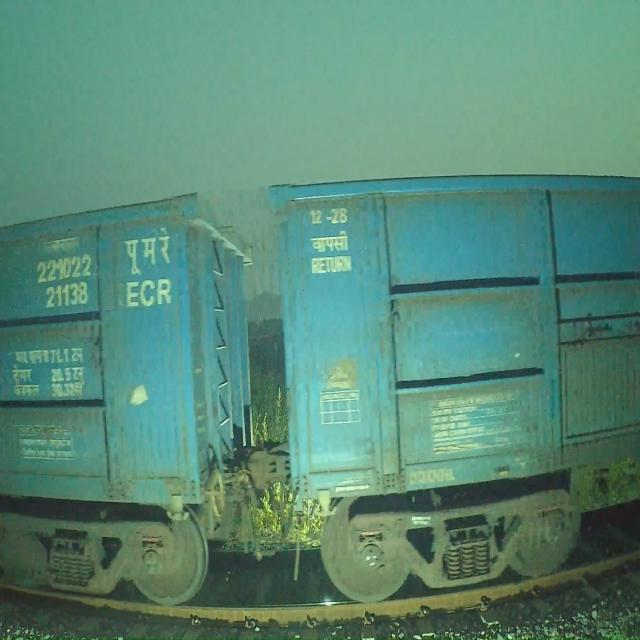WAgon-uic: (262, 169, 640, 610), (0, 184, 260, 611)
uic: (30, 249, 96, 315)
